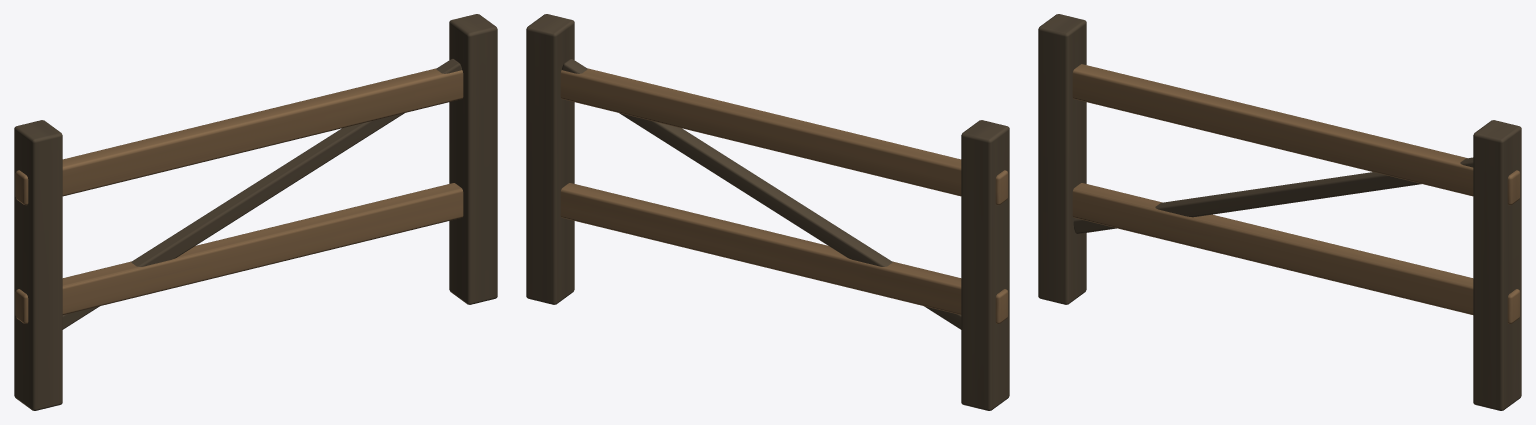
The model's file is railing.glb.
3 views of the same model, side by side, from view 1: azimuth 30°, elevation 25°; view 2: azimuth 150°, elevation 25°; view 3: azimuth 330°, elevation 25° (orthographic).
Parts seen in each view (by area): view 1: Wooden Railing; view 2: Wooden Railing; view 3: Wooden Railing.
Boxes of the visible parts, x1,y1,x2,y2 form: Wooden Railing: [14, 14, 497, 410]; Wooden Railing: [526, 14, 1009, 410]; Wooden Railing: [1038, 14, 1521, 410].
Size of the model in its own units: 2 by 1.1 by 0.15.
2 materials, 2 textured.
